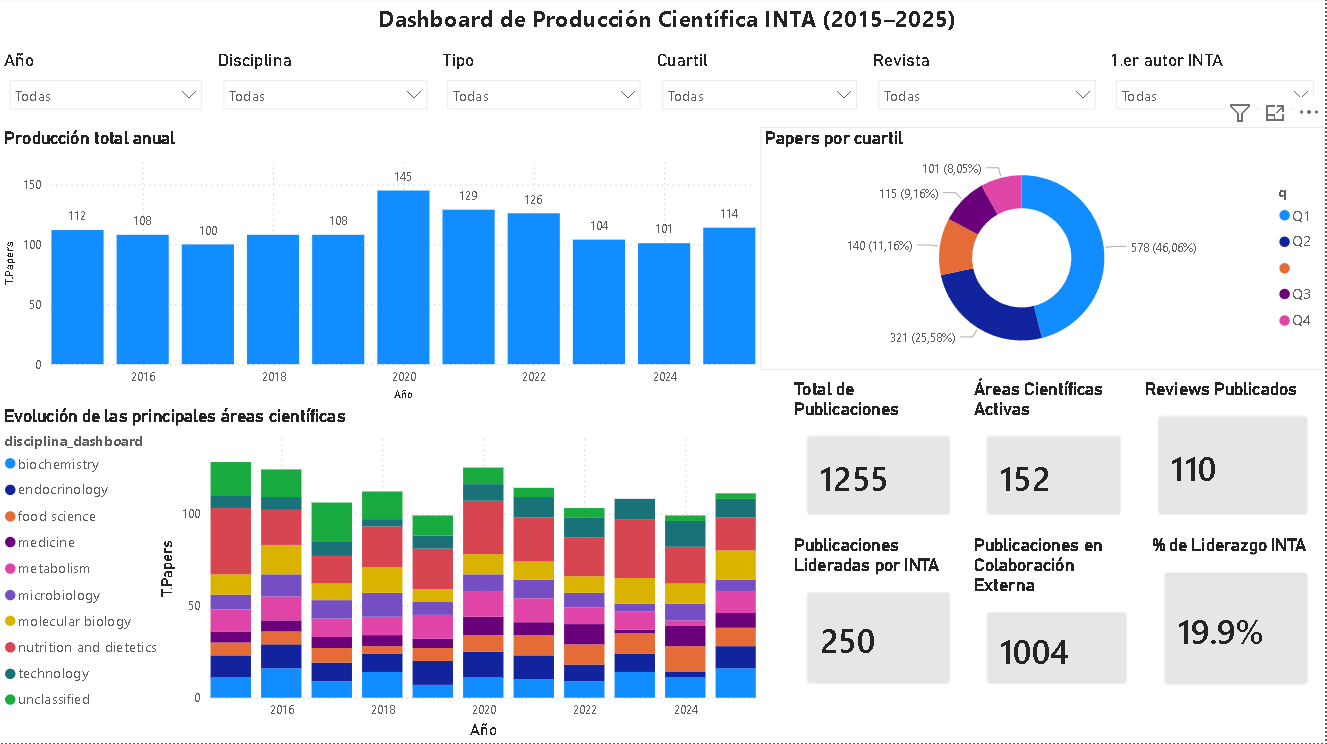

What the dashboard file says about the page in this screenshot:
{"tool":"powerbi","page":{"name":"Página 1","canvas":[1280,720],"ordinal":0},"visuals":[{"type":"columnChart","title":"Evolución de las principales áreas científicas","fields":{"Category":["inta_dashboard.anio"],"Y":["inta_dashboard.Total Papers"],"Series":["inta_dashboard.disciplina_dashboard"]},"box":[0,394.9,735.2,325.8],"z":0},{"type":"slicer","title":"Año","fields":{"Values":["inta_dashboard.anio"]},"box":[0,50.9,205.9,75.1],"z":1000},{"type":"slicer","title":"Disciplina","fields":{"Values":["inta_dashboard.disciplina_dashboard"]},"box":[205.9,50.9,216.8,75.1],"z":2000},{"type":"slicer","title":"Cuartil","fields":{"Values":["inta_dashboard.q"]},"box":[629.8,50.9,208.3,75.1],"z":3000},{"type":"slicer","title":"Tipo","fields":{"Values":["inta_dashboard.tipo_documento"]},"box":[422.7,50.9,207.1,75.1],"z":4000},{"type":"slicer","title":"1.er autor INTA","fields":{"Values":["inta_dashboard.primer_autor_inta_final"]},"box":[1068.3,50.9,212,75.1],"z":5000},{"type":"clusteredColumnChart","title":"Producción total anual","fields":{"Category":["inta_dashboard.anio"],"Y":["inta_dashboard.Total Papers"]},"box":[0,126,735.2,268.9],"z":6000},{"type":"slicer","title":"Revista","fields":{"Values":["inta_dashboard.titulo_revista"]},"box":[838.2,50.9,230.1,75.1],"z":7000},{"type":"cardVisual","title":"Total de Publicaciones","fields":{"Data":["inta_dashboard.Total Papers KPI"]},"box":[763.1,368.2,173.2,150.2],"z":8000},{"type":"donutChart","title":"Papers por cuartil","fields":{"Category":["inta_dashboard.q"],"Y":["inta_dashboard.T.Papers"]},"box":[735.2,126,545,233.8],"z":9000},{"type":"cardVisual","title":"Publicaciones Lideradas por INTA","fields":{"Data":["inta_dashboard.P.A.INTA.KPI"]},"box":[763.1,518.4,173.2,162.3],"z":10000},{"type":"cardVisual","title":"Áreas Científicas Activas","fields":{"Data":["inta_dashboard.Disciplinas Activas KPI"]},"box":[936.3,368.2,164.7,150.2],"z":11000},{"type":"cardVisual","title":"Publicaciones en Colaboración Externa","fields":{"Data":["inta_dashboard.No.P.A.INTA KPI"]},"box":[936.3,518.4,170.8,162.3],"z":12000},{"type":"cardVisual","title":"Reviews Publicados","fields":{"Data":["inta_dashboard.Total Reviews KPI"]},"box":[1101,368.2,179.3,150.2],"z":13000},{"type":"cardVisual","title":"% de Liderazgo INTA","fields":{"Data":["inta_dashboard.% Liderazgo INTA KPI"]},"box":[1107,518.4,173.2,162.3],"z":14000},{"type":"textbox","box":[360.9,0,592.3,43.6],"z":15000}]}

Visuals, with their boxes in screenshot pixels (x1, y1, x2, y2), scaled from the page's 1280x720 canvas onto the 1327x744 screenshot:
"Evolución de las principales áreas científicas" columnChart: (0, 408, 762, 743)
"Año" slicer: (0, 53, 213, 130)
"Disciplina" slicer: (213, 53, 438, 130)
"Cuartil" slicer: (653, 53, 869, 130)
"Tipo" slicer: (438, 53, 653, 130)
"1.er autor INTA" slicer: (1108, 53, 1326, 130)
"Producción total anual" clusteredColumnChart: (0, 130, 762, 408)
"Revista" slicer: (869, 53, 1108, 130)
"Total de Publicaciones" cardVisual: (791, 380, 971, 536)
"Papers por cuartil" donutChart: (762, 130, 1326, 372)
"Publicaciones Lideradas por INTA" cardVisual: (791, 536, 971, 703)
"Áreas Científicas Activas" cardVisual: (971, 380, 1141, 536)
"Publicaciones en Colaboración Externa" cardVisual: (971, 536, 1148, 703)
"Reviews Publicados" cardVisual: (1141, 380, 1326, 536)
"% de Liderazgo INTA" cardVisual: (1148, 536, 1326, 703)
textbox: (374, 0, 988, 45)
